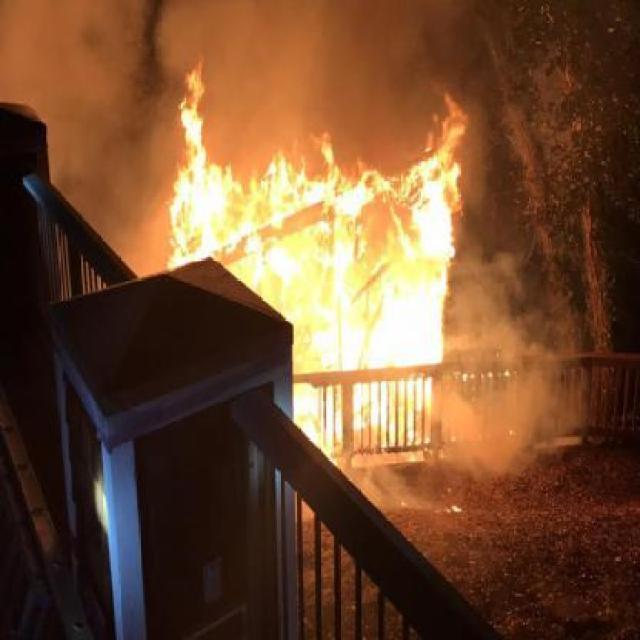Fire: (168, 91, 468, 460)
